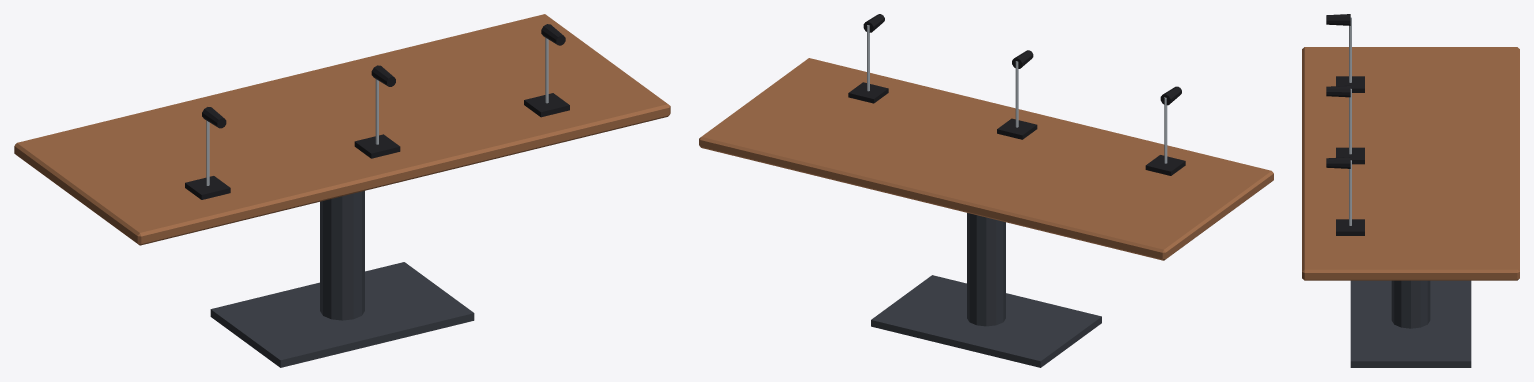
File: podcast_table.fbx
3 renders of one model, left to right at view 1: azimuth 30°, elevation 25°; view 2: azimuth 150°, elevation 25°; view 3: azimuth 270°, elevation 25°, orthographic. The views are drawn at different scales.
Visible parts, largest first — view 1: podcast_table_LOD0; view 2: podcast_table_LOD0; view 3: podcast_table_LOD0.
Boxes of the visible parts, bbox=[...] form: podcast_table_LOD0: bbox=[14, 14, 670, 367]; podcast_table_LOD0: bbox=[699, 14, 1273, 367]; podcast_table_LOD0: bbox=[1302, 14, 1519, 367].
Size of what is drawn, in the model's own units: 2.2 by 1.1 by 0.9.
Materials: 1 (1 with a texture image).
